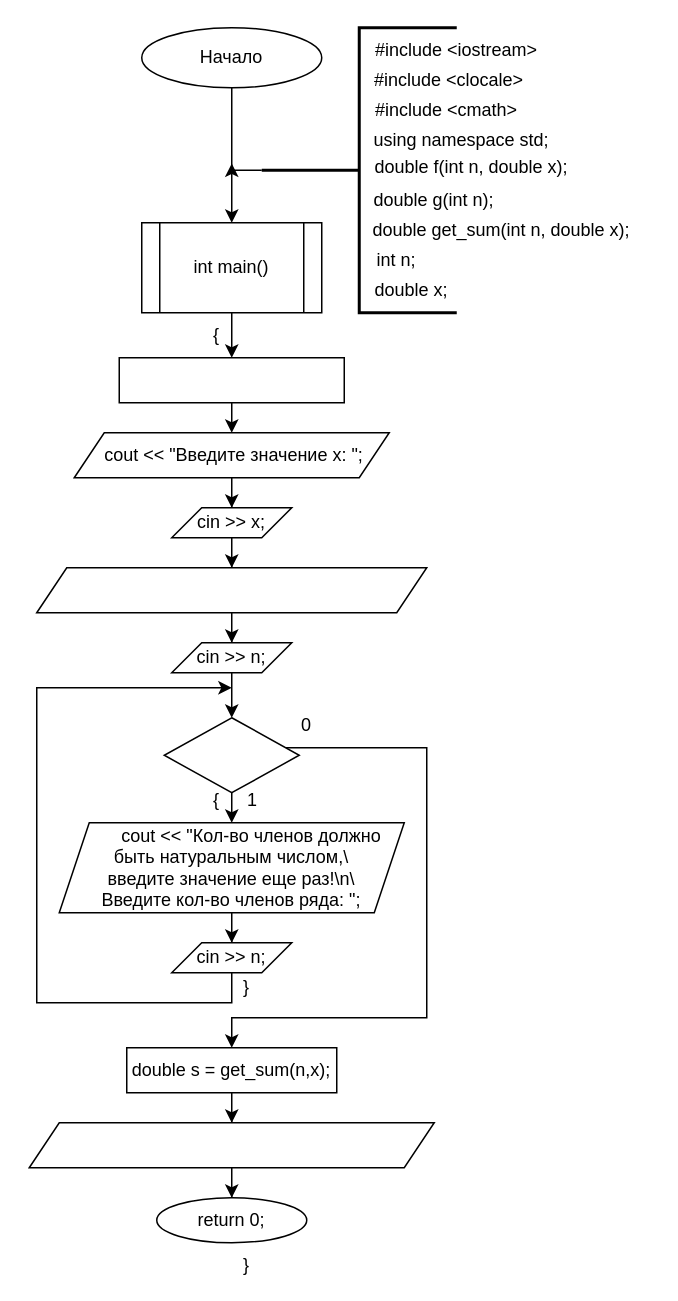
Some shapes in this 678 by 1301 pixel diagram are drawn without their labels. Here are the shapes that lost their labels. From the top down, the box of each, then its label:
(118, 356, 344, 403): setlocale(LC_ALL,"RUS");
(35, 566, 427, 613): cout << "Введите кол-во членов ряда: ";
(163, 716, 299, 793): while (n<=0)
(28, 1121, 434, 1168): cout << "Сумма членов ряда равна:" << s;
